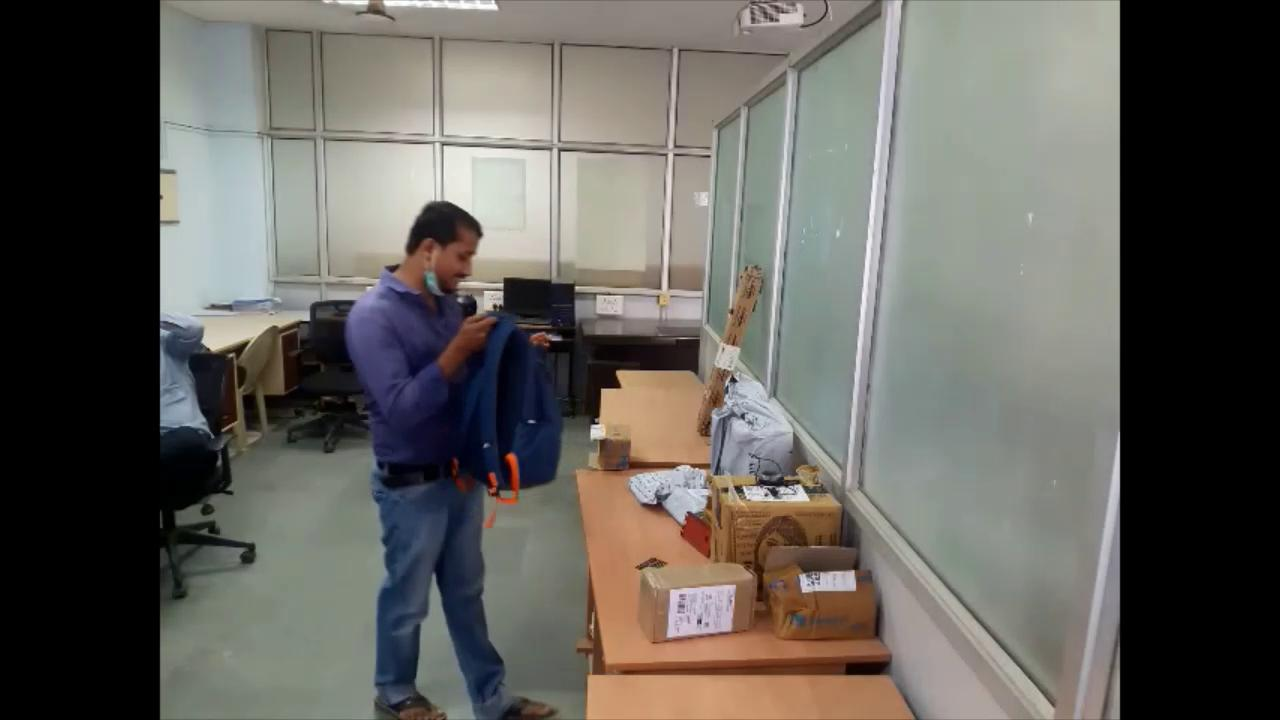shoplifting: (335, 183, 580, 711)
